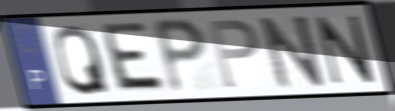E: (100, 20, 170, 94)
N: (257, 13, 328, 91), (314, 13, 378, 87)
P: (150, 16, 209, 96), (206, 18, 261, 91)
Q: (52, 22, 113, 98)
